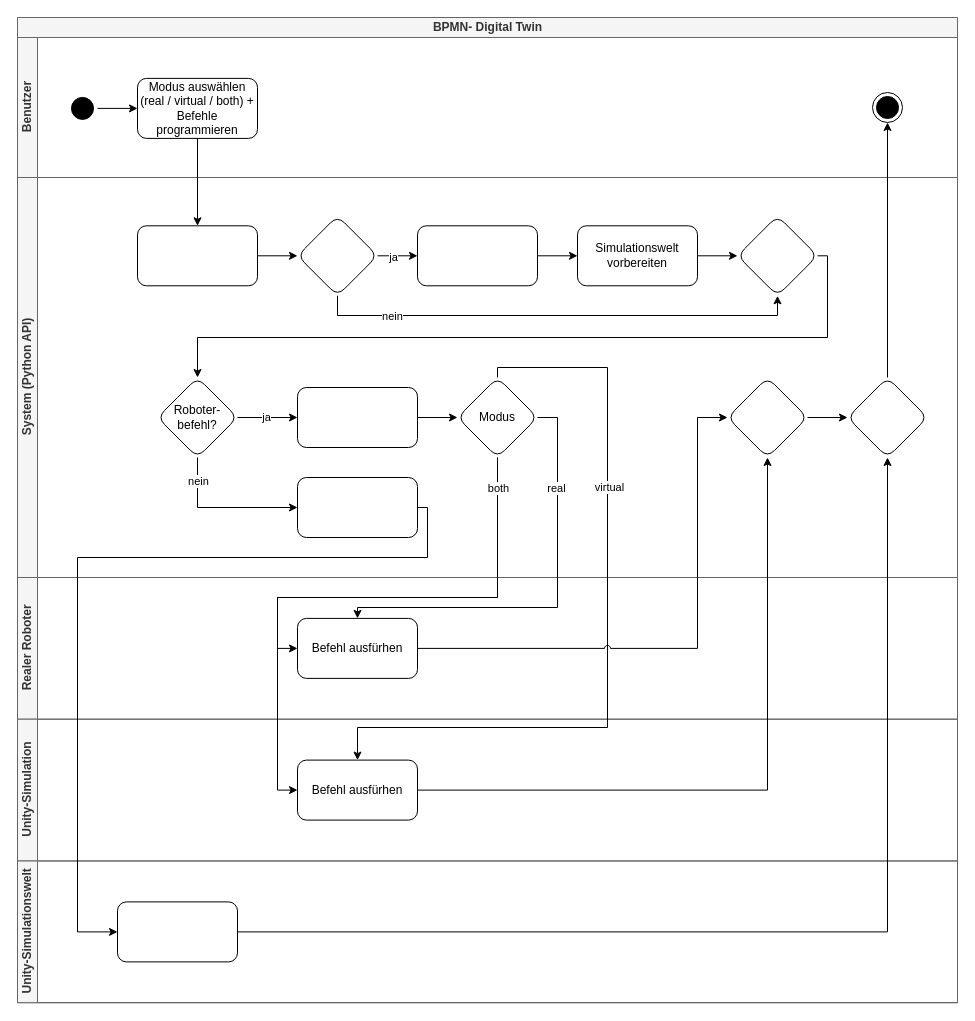
This 975x1021 diagram has some shape labels left out. The centre of each missing label's shape, as x and y in pixels:
"Robot-Schnittstelle verarbeiten" belongs at (x=357, y=417).
"Simulation enthalten?" belongs at (x=337, y=255).
"Szene / Objekte aktualisieren" belongs at (x=177, y=931).
"Unity-Verbindung aufbauen" belongs at (x=477, y=255).
"Verbindungen initialisieren" belongs at (x=197, y=255).
"World-Schnittstelle verarbeiten" belongs at (x=357, y=507).
